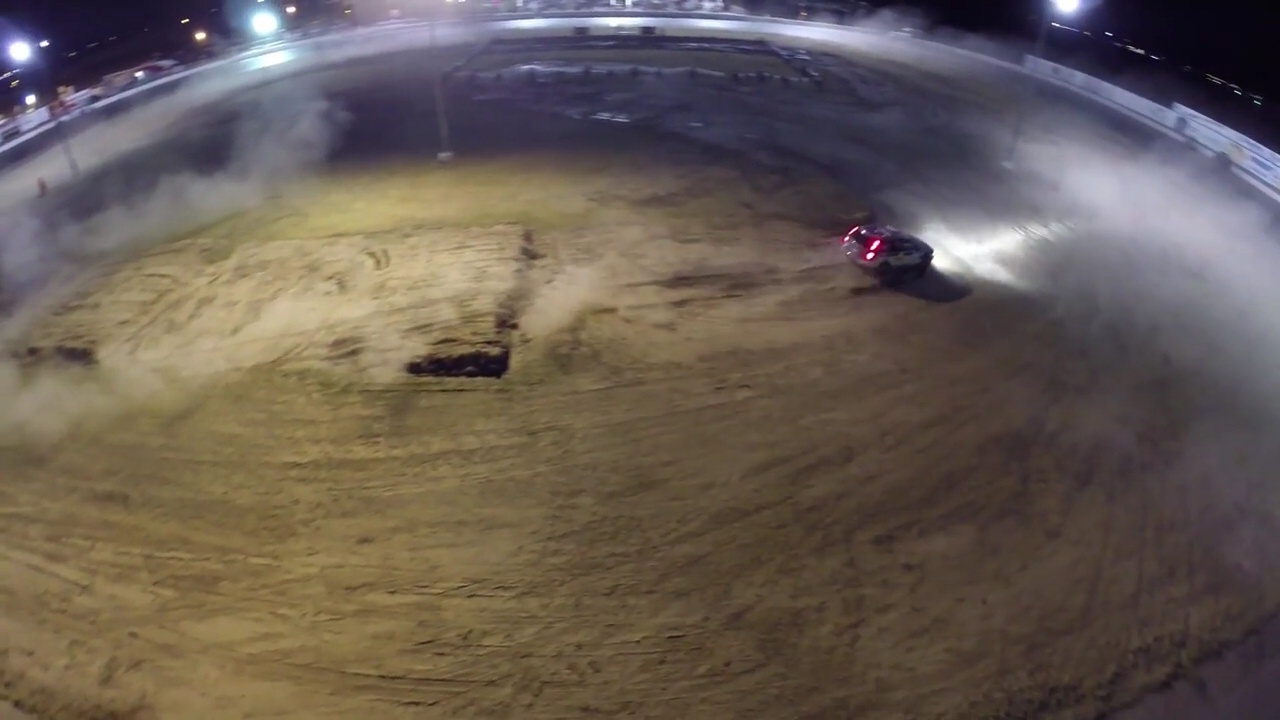araba: (844, 221, 935, 267)
